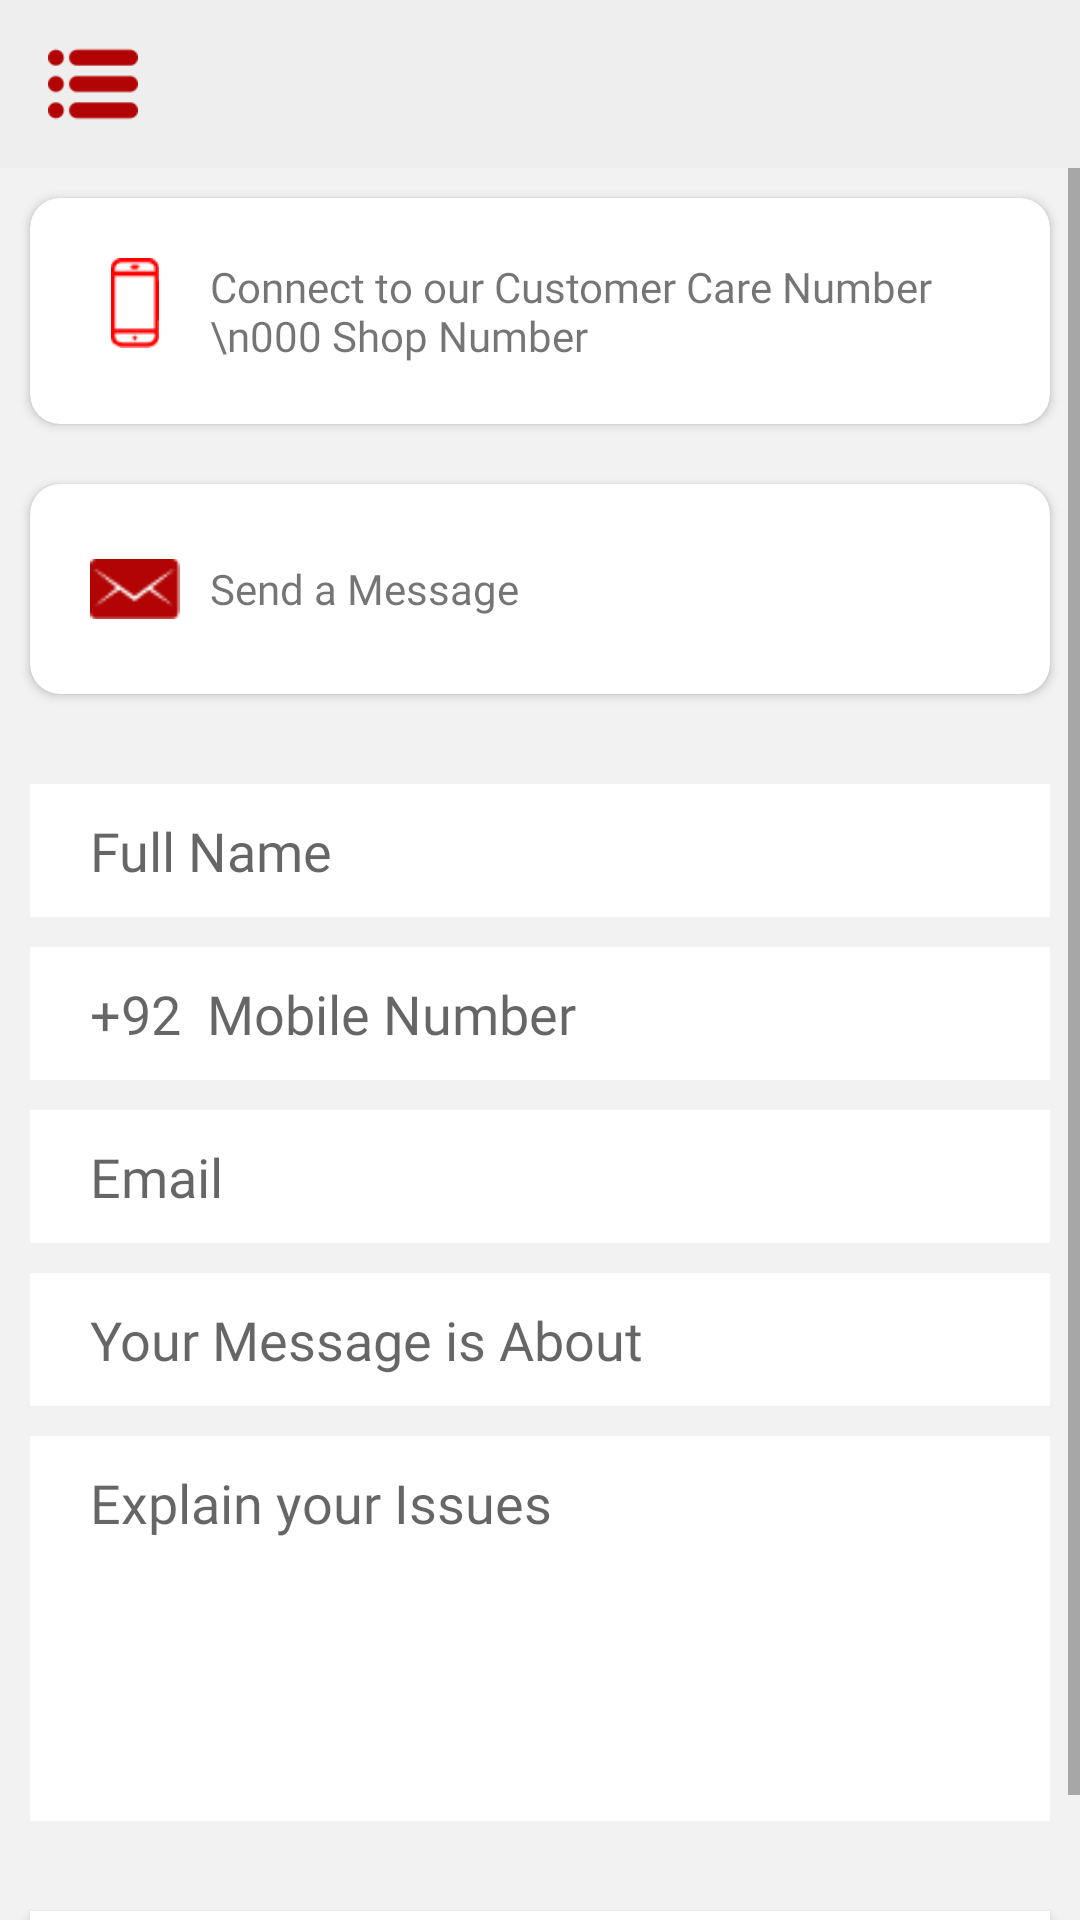

Icons on this 1080px×1920px Android screen, each with its box as (x1, y1, x2, y2):
mail: (90, 559, 180, 619)
phone: (111, 258, 159, 348)
